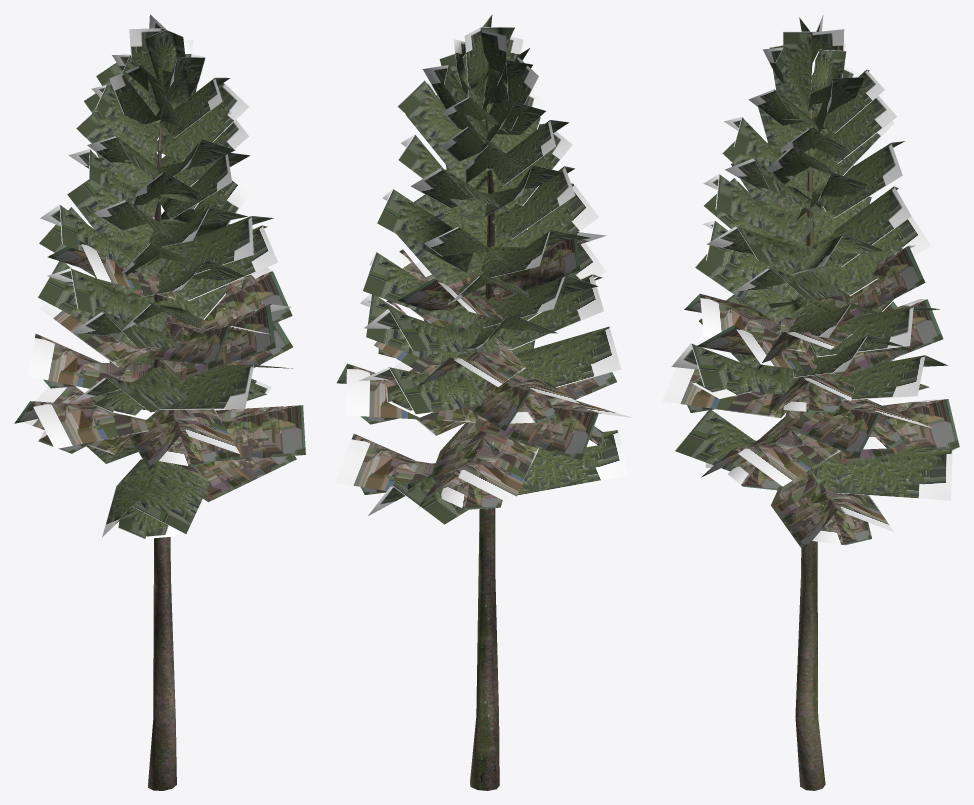
The model's file is Fir14-25.gltf.
The picture shows the model from 3 angles, left to right: view 1: azimuth 30°, elevation 25°; view 2: azimuth 150°, elevation 25°; view 3: azimuth 270°, elevation 25°; orthographic projection.
Parts seen in each view (by area): view 1: FirLeaves, Fir14-25; view 2: FirLeaves, Fir14-25; view 3: FirLeaves, Fir14-25.
Boxes of the visible parts, <box> form: FirLeaves: <box>14,14,305,538</box>; Fir14-25: <box>148,119,176,790</box>; FirLeaves: <box>334,14,632,524</box>; Fir14-25: <box>470,107,499,790</box>; FirLeaves: <box>662,15,959,550</box>; Fir14-25: <box>795,109,825,790</box>.
Bounding box in the file's own units: 67.31 × 189 × 67.27.
2 materials, 2 textured.
